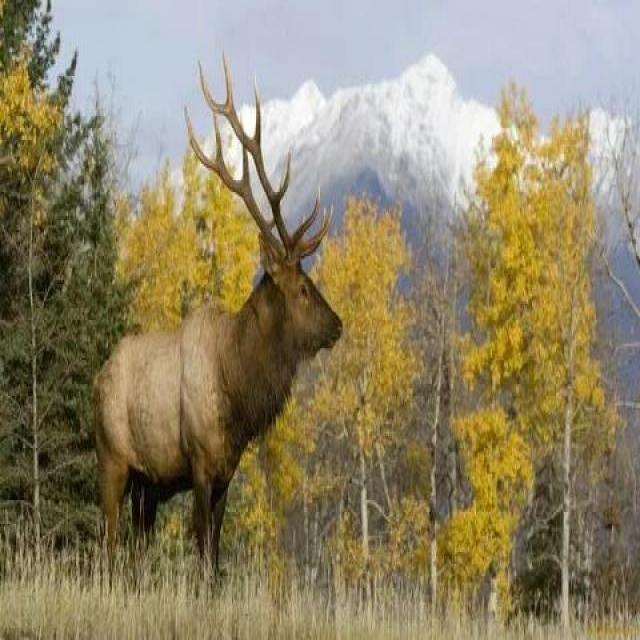deer: (36, 68, 317, 564)
